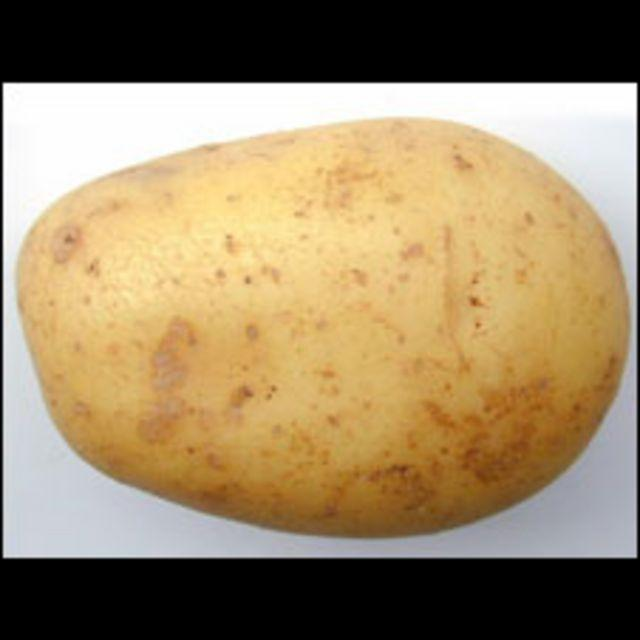Potato: (15, 114, 631, 546)
